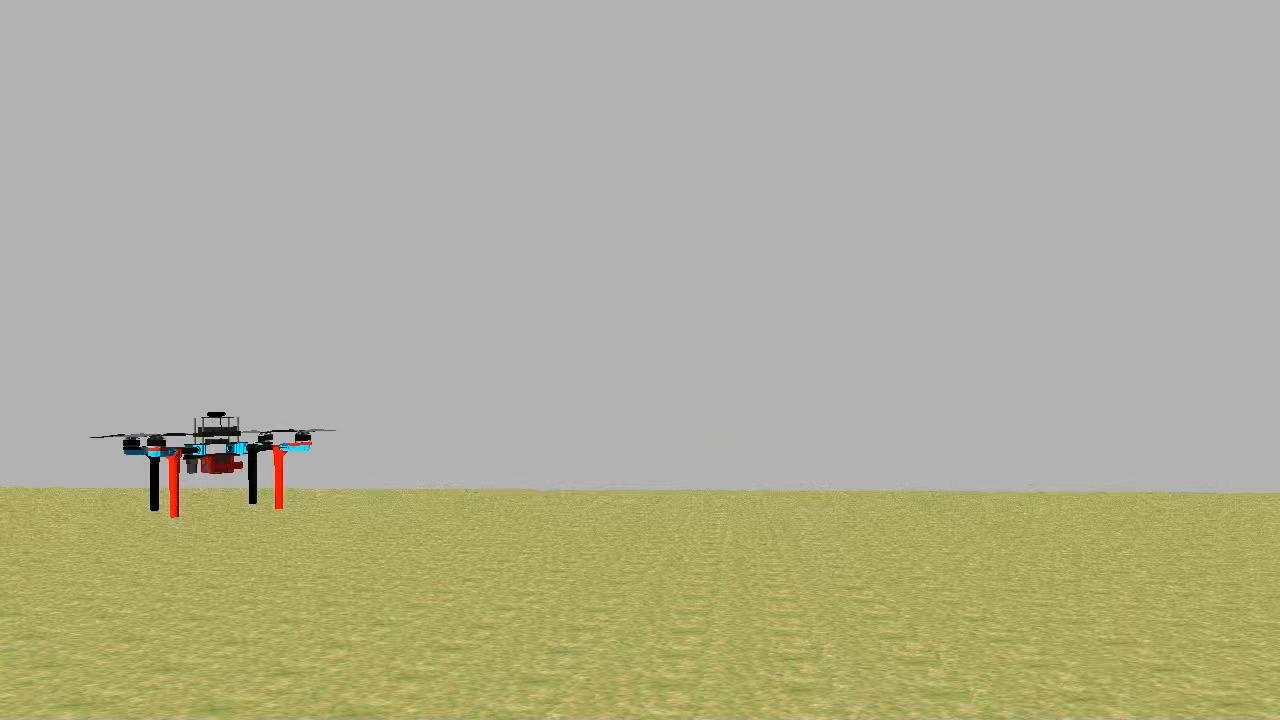UAV: (116, 404, 320, 526)
